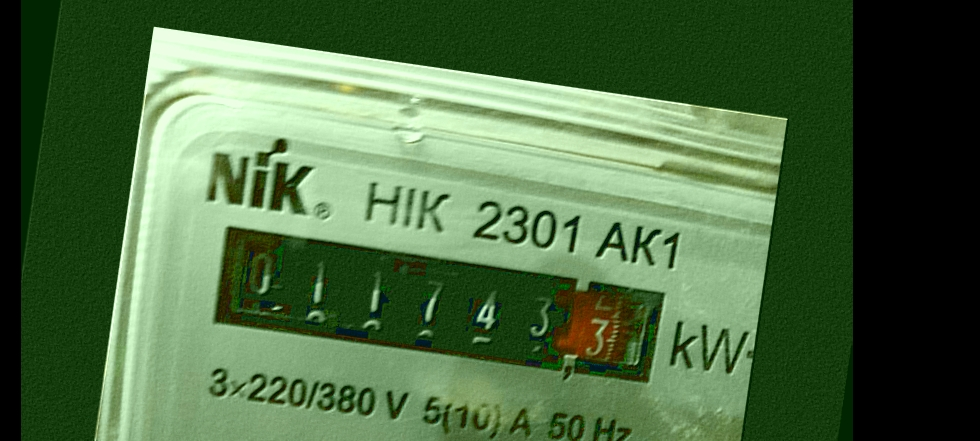0: (244, 248, 279, 299)
1: (362, 266, 390, 317), (308, 258, 332, 308)
3: (525, 292, 559, 342), (582, 314, 612, 361)
4: (471, 283, 506, 334)
7: (418, 276, 448, 327)
screen: (196, 214, 674, 398)
